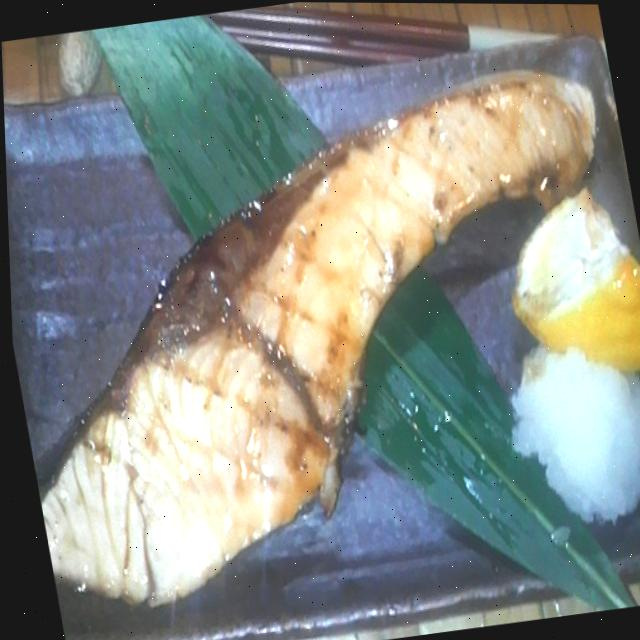熟制海鲜: (1, 44, 640, 634)
